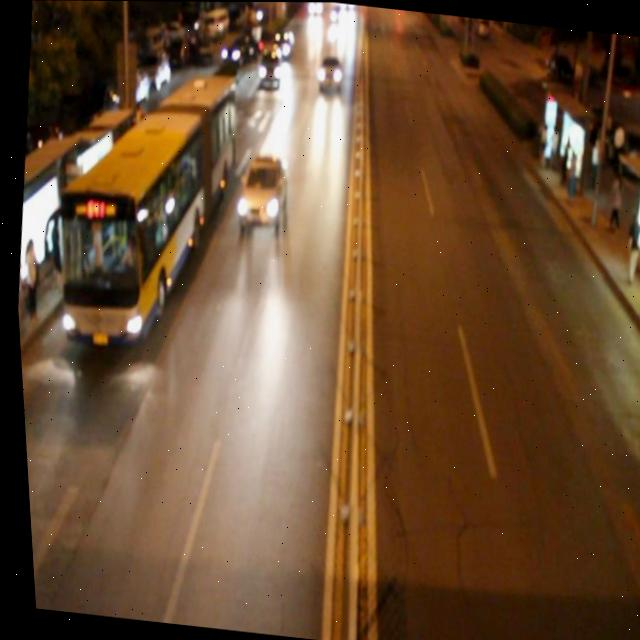car: (231, 152, 289, 231), (313, 51, 345, 92), (269, 26, 296, 61)
truck: (254, 45, 284, 88)
van: (42, 59, 247, 356)
